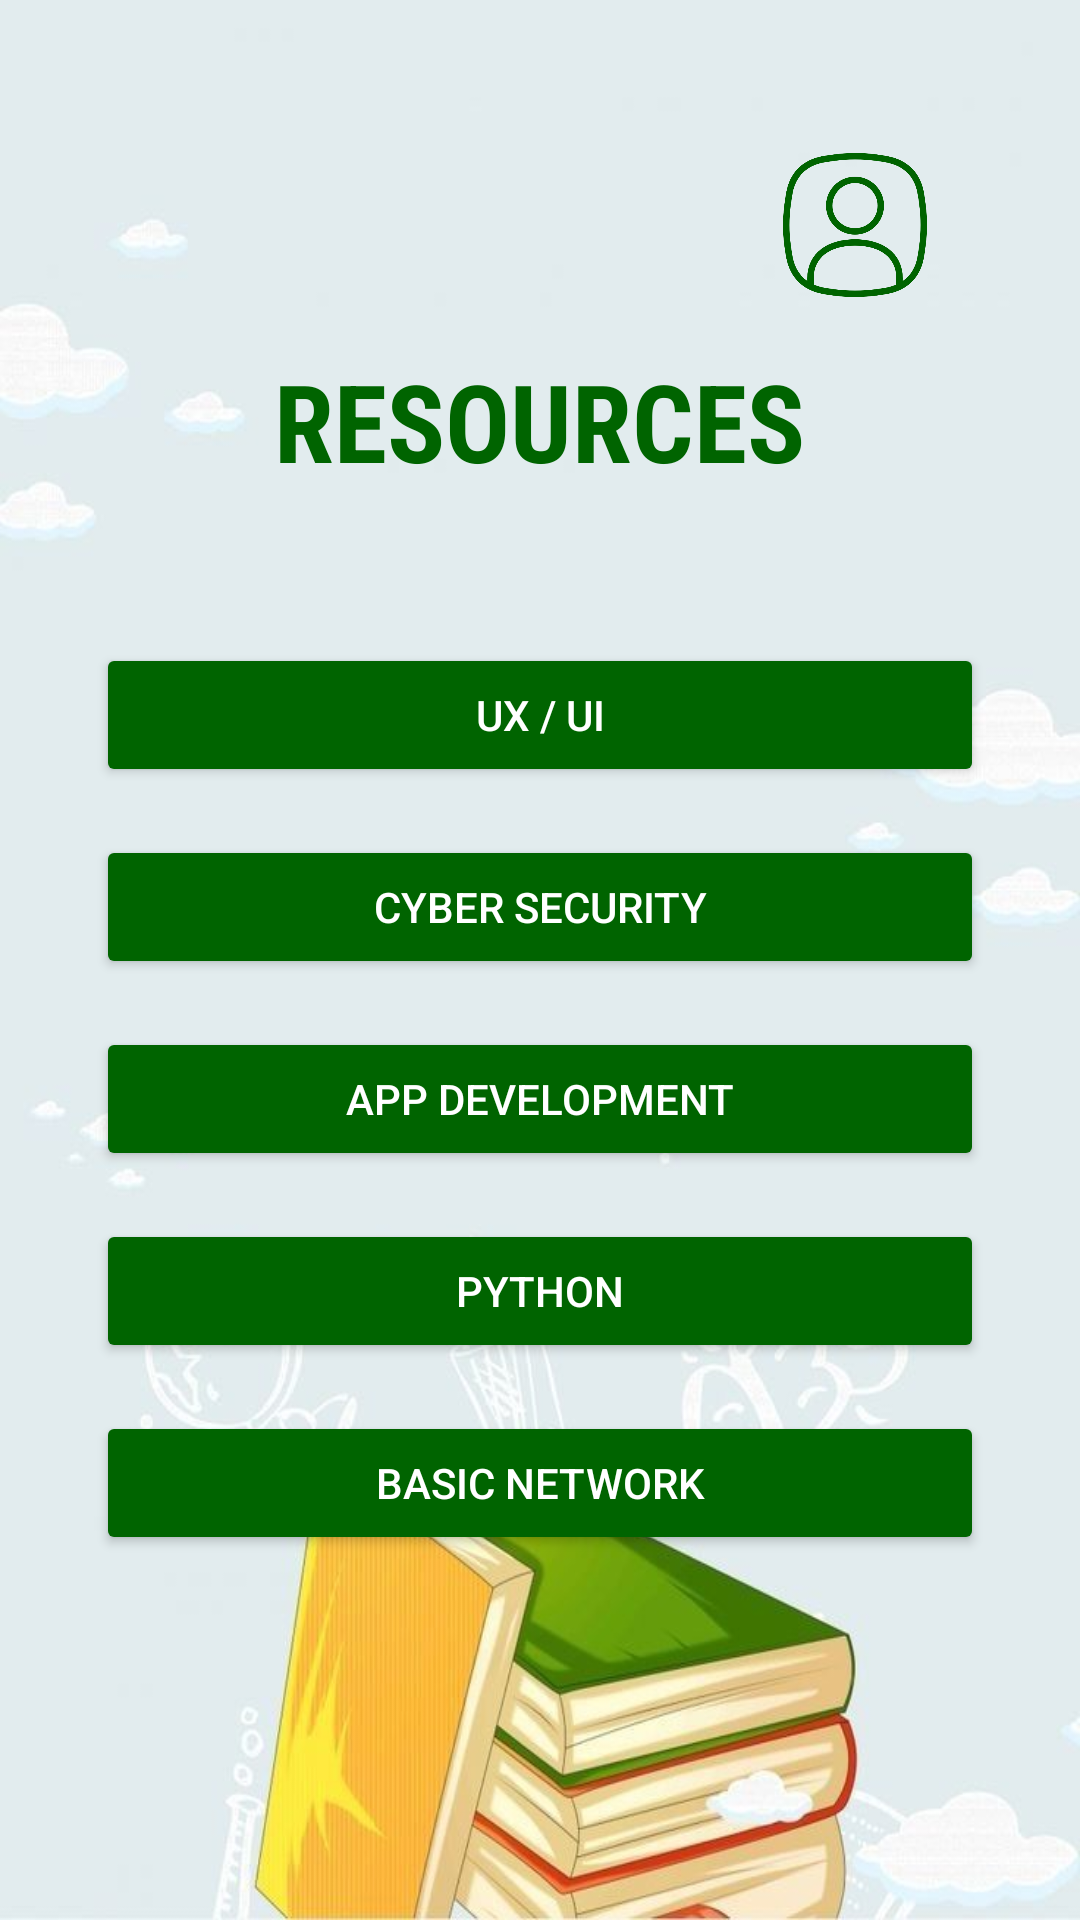

Locate icon controls on the screen. Image size 1080*1920, boxes as (x1, y1, x2, y2).
Profile Icon: (783, 153, 927, 297)
